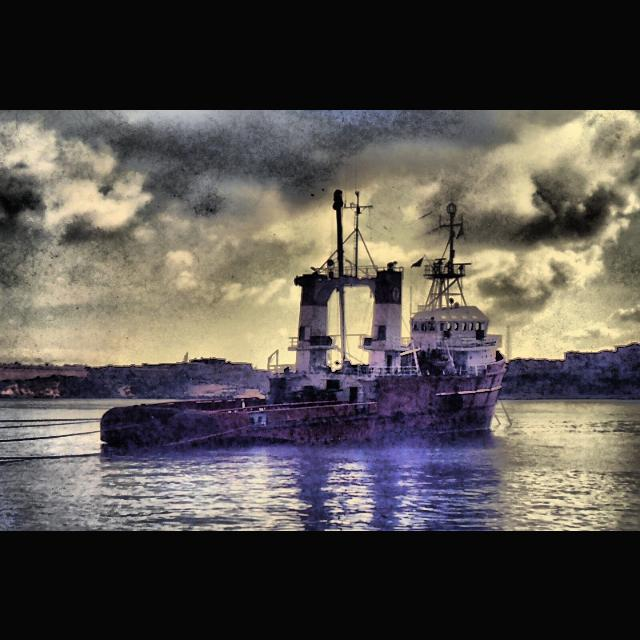anchor_handling_tug_supply: (98, 256, 510, 450)
